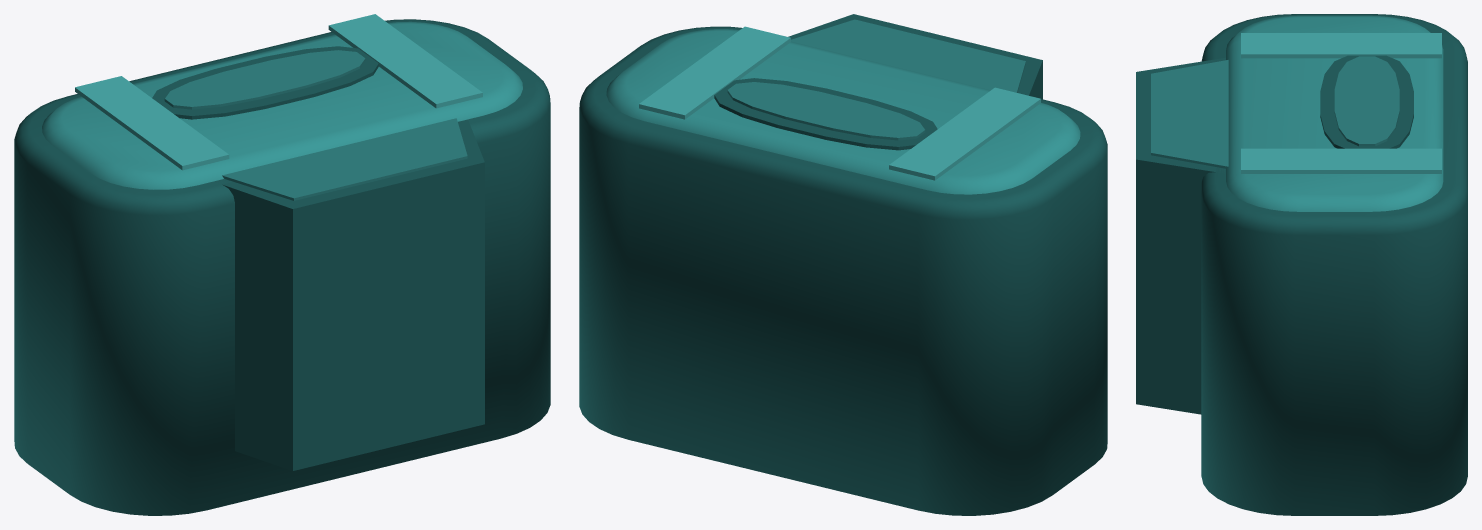
The model's file is bag_padrao_turquesa.fbx.
3 views of the same model, side by side, from view 1: azimuth 30°, elevation 25°; view 2: azimuth 150°, elevation 25°; view 3: azimuth 270°, elevation 25° (orthographic). The views are drawn at different scales.
Visible parts, largest first — view 1: bag_padrao_turquesa_mochila; view 2: bag_padrao_turquesa_mochila; view 3: bag_padrao_turquesa_mochila.
Part boxes in pixels (x1,y1,x2,y2): bag_padrao_turquesa_mochila: (14, 14, 550, 515); bag_padrao_turquesa_mochila: (579, 14, 1107, 515); bag_padrao_turquesa_mochila: (1136, 14, 1467, 515).
Size of the model in its own units: 2.8 by 1.9 by 1.84.
Materials: 1 (1 with a texture image).
